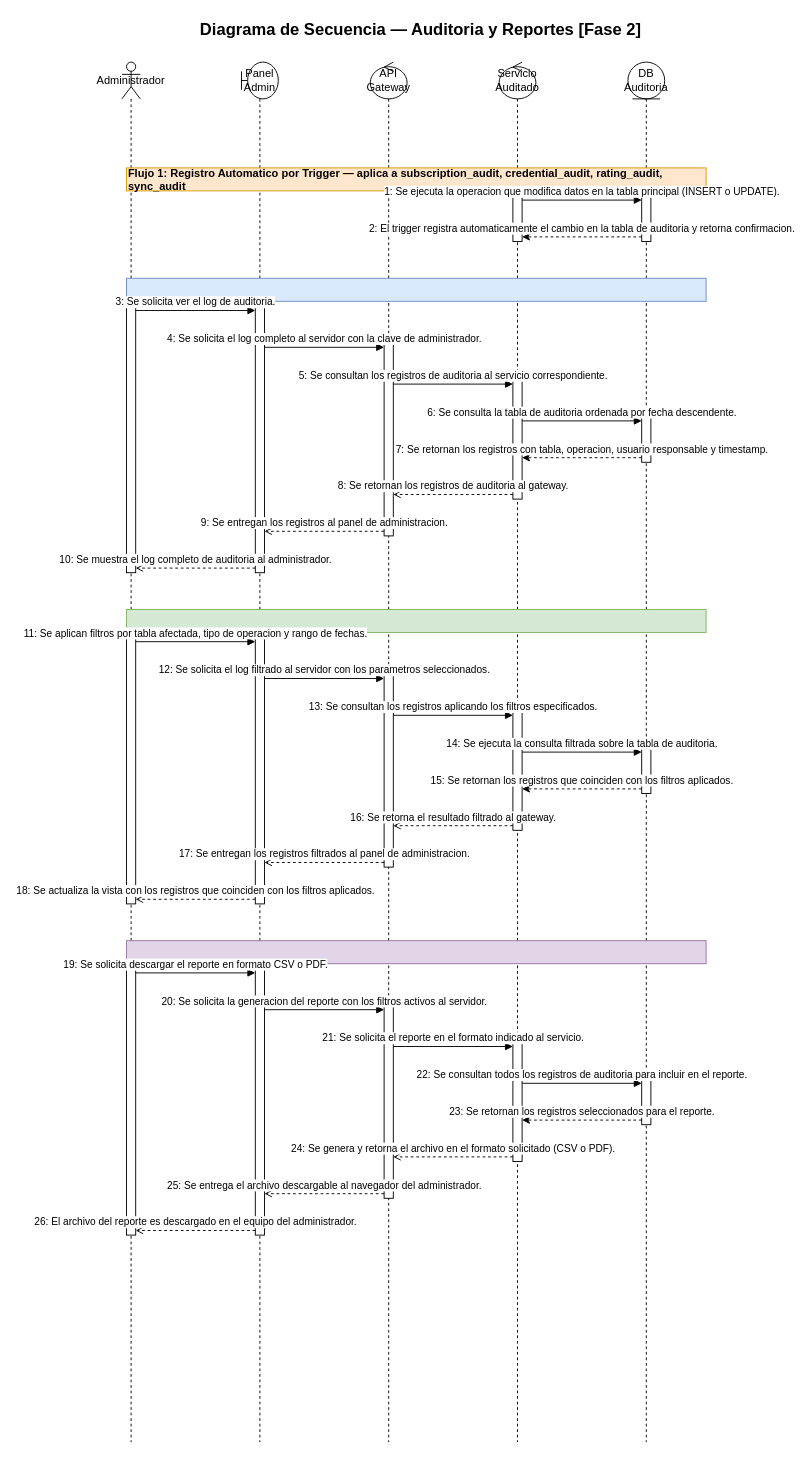
The diagram is 811 pixels wide and 1458 high, and some of its shapes have lost their labels. The shapes that lost their labels are listed below. From the top down, each one's box as (x1, y1, x2, y2) in pixels, then its label:
(126, 277, 706, 301): Flujo 2: Consultar Log Completo de Auditoria
(126, 609, 706, 632): Flujo 3: Filtrar Registros por Tabla, Operacion y Rango de Fechas
(126, 940, 706, 964): Flujo 4: Descargar Reporte en Formato CSV o PDF
